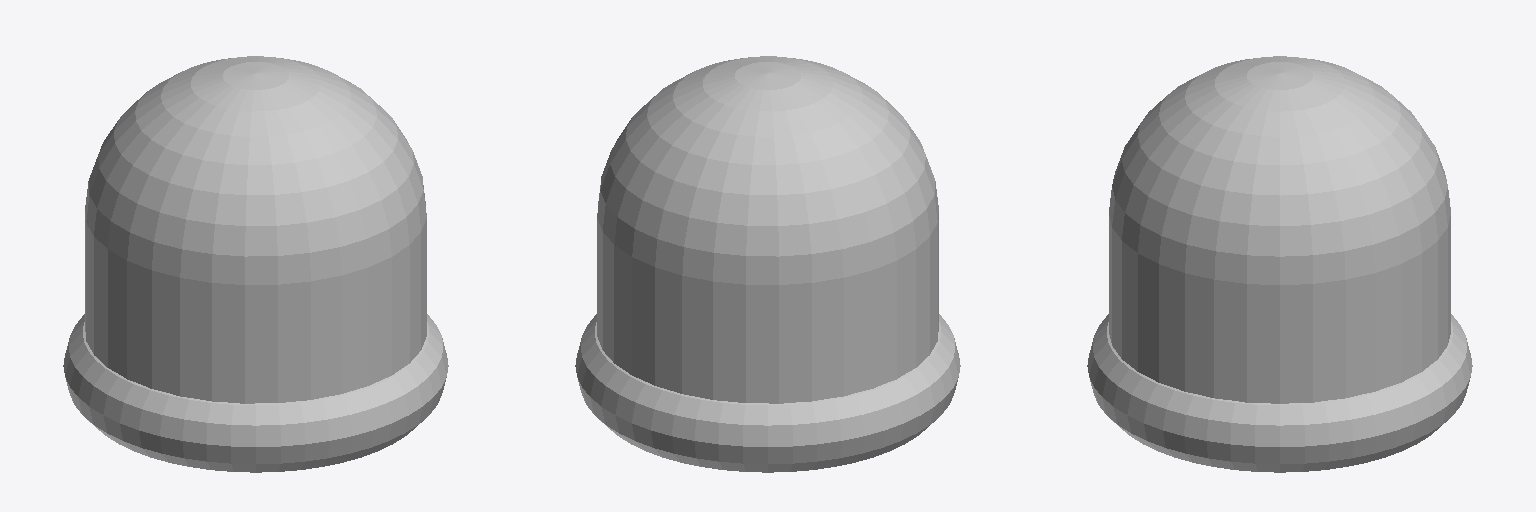
The model's file is Bell.obj.
3 views of the same model, side by side, from view 1: azimuth 30°, elevation 25°; view 2: azimuth 150°, elevation 25°; view 3: azimuth 270°, elevation 25° (orthographic).
Visible parts, largest first — view 1: Bell; view 2: Bell; view 3: Bell.
Part boxes in pixels (x1,y1,x2,y2): Bell: (63, 56, 448, 472); Bell: (575, 56, 960, 472); Bell: (1087, 56, 1472, 472).
Bounding box in the file's own units: 2.25 × 2.35 × 2.25.